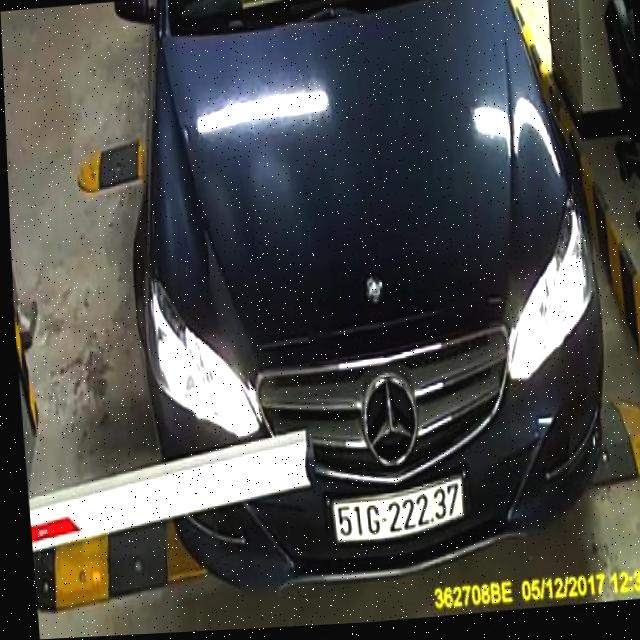car: (98, 0, 630, 609)
plate: (327, 482, 473, 542)
